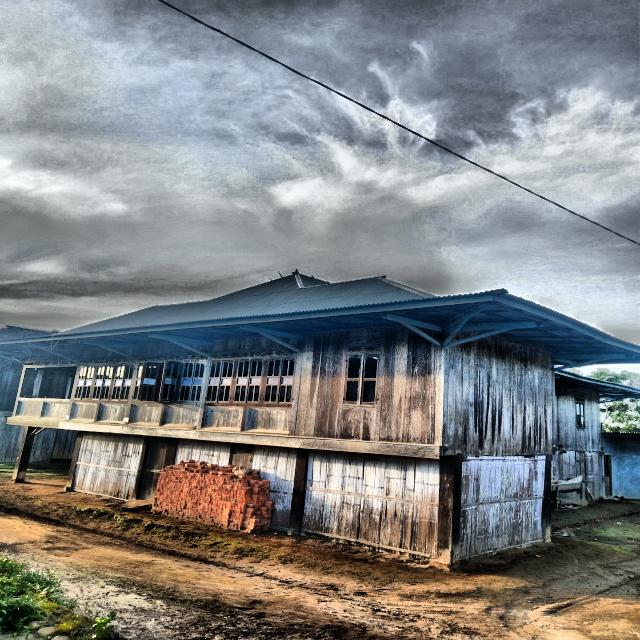column: (435, 455, 462, 565), (287, 448, 308, 535), (12, 425, 37, 479), (63, 430, 84, 491), (163, 437, 179, 468)
door: (139, 442, 167, 501)
ornamen: (244, 407, 292, 434), (201, 406, 244, 431), (162, 404, 200, 428), (128, 404, 163, 426), (96, 403, 128, 424), (69, 402, 98, 422), (40, 401, 70, 420), (15, 401, 42, 418)
roof: (0, 273, 640, 367), (555, 370, 640, 402)
wall: (294, 324, 437, 445), (300, 449, 439, 561), (446, 336, 552, 456), (200, 336, 297, 436), (459, 456, 546, 563), (127, 344, 207, 429), (71, 431, 145, 501), (68, 349, 136, 425), (252, 444, 298, 532), (557, 385, 601, 451), (563, 451, 600, 499), (174, 438, 232, 466)
window: (343, 354, 380, 405), (137, 360, 181, 402), (262, 357, 297, 404), (232, 359, 265, 403), (205, 360, 235, 403), (178, 361, 207, 403), (111, 364, 135, 401), (91, 365, 115, 400), (73, 365, 96, 400), (575, 397, 585, 429)
